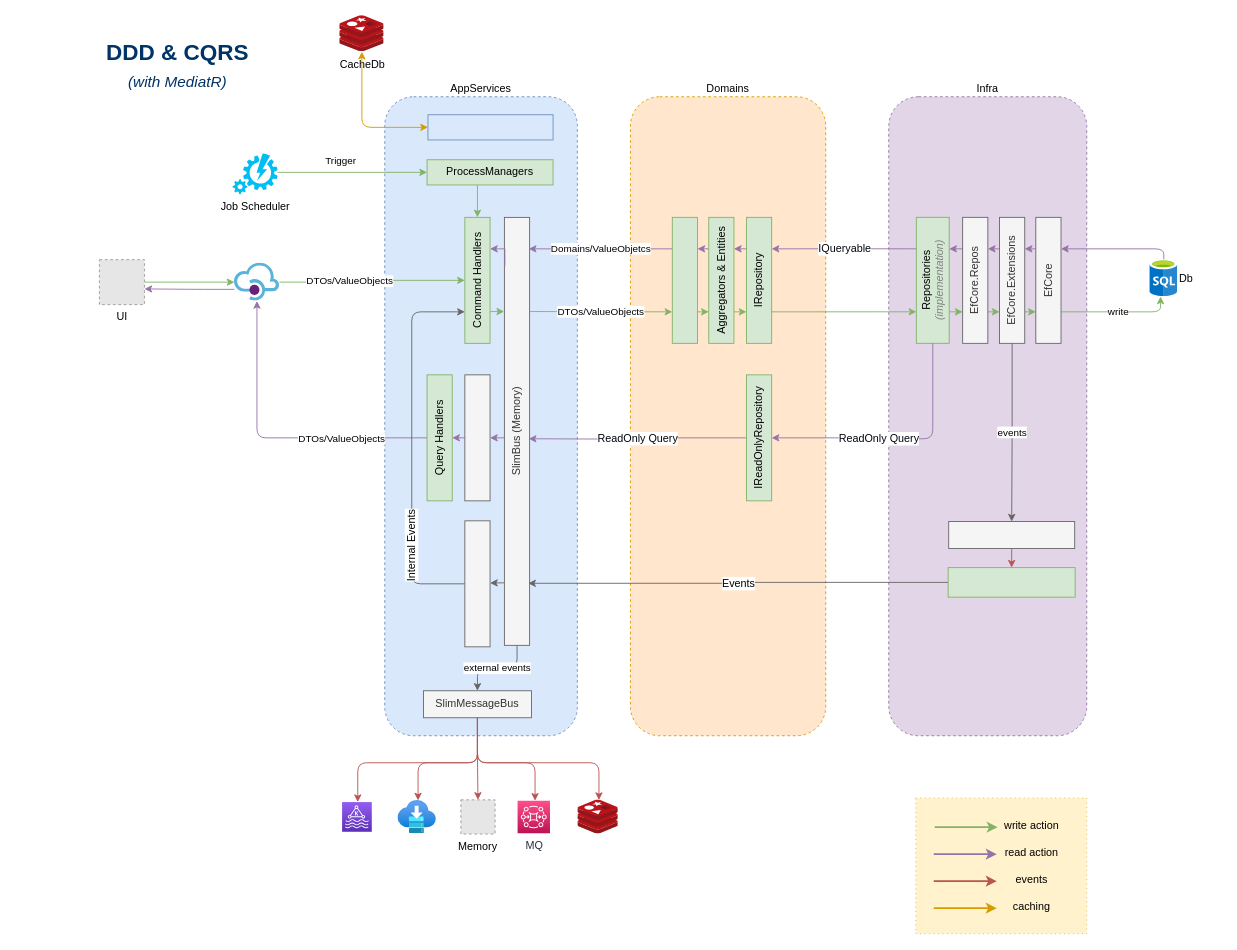
Image size: 1237x950. Some labels were removed from this diagram. Grey dashed boxes stand in for pictures. The centre of each missing label's shape, as x and y in pixels:
"API (Controllers)" belongs at point (256, 282).
"DomainServices" belongs at point (684, 279).
"EfCore.Events (EfCore.Hooks)" belongs at point (1011, 535).
"Event Handlers" belongs at point (477, 583).
"Event Publisher" belongs at point (1011, 582).
"HybirdCache" belongs at point (490, 127).
"Kafka" belongs at point (356, 816).
"Mapster" belongs at point (477, 437).
"Redis" belongs at point (597, 816).
"Service Bus" belongs at point (416, 816).
